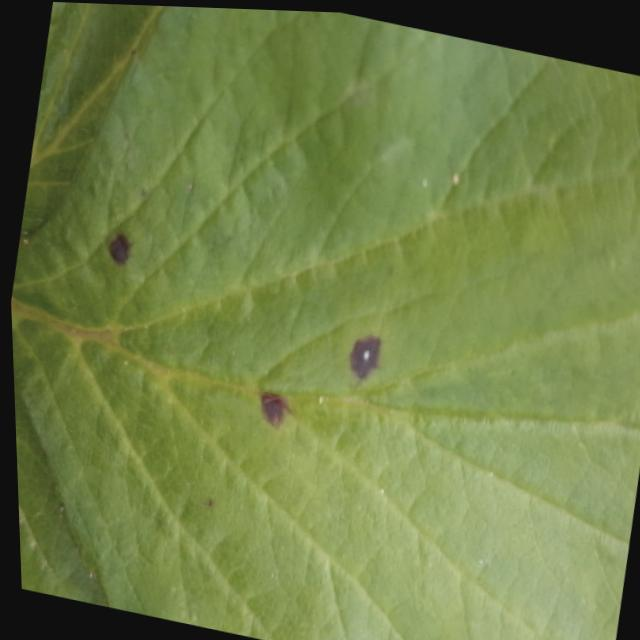Leaf Spot: (8, 5, 640, 640)
